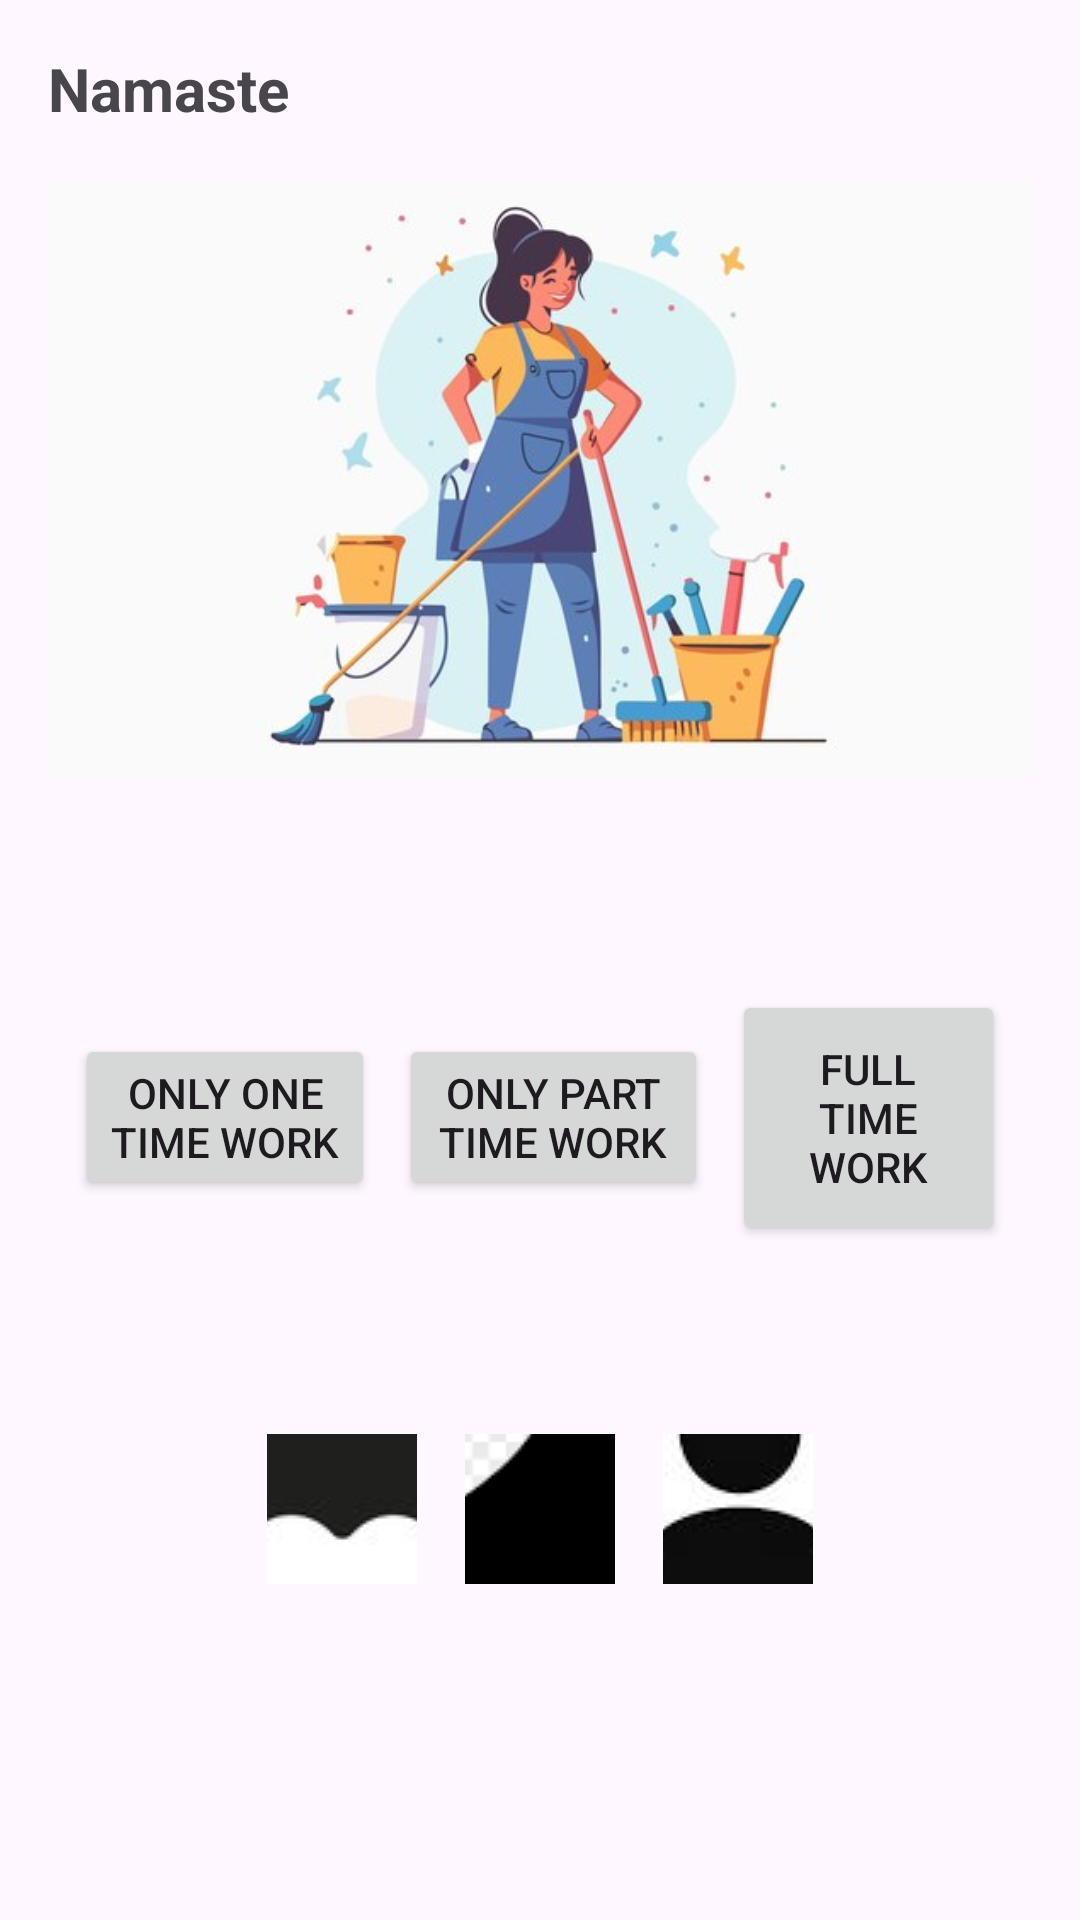

Named icons in this screenshot (1080px x 1920px) and their bounding boxes, (x1, y1, x2, y2):
Profile: (663, 1434, 813, 1584)
